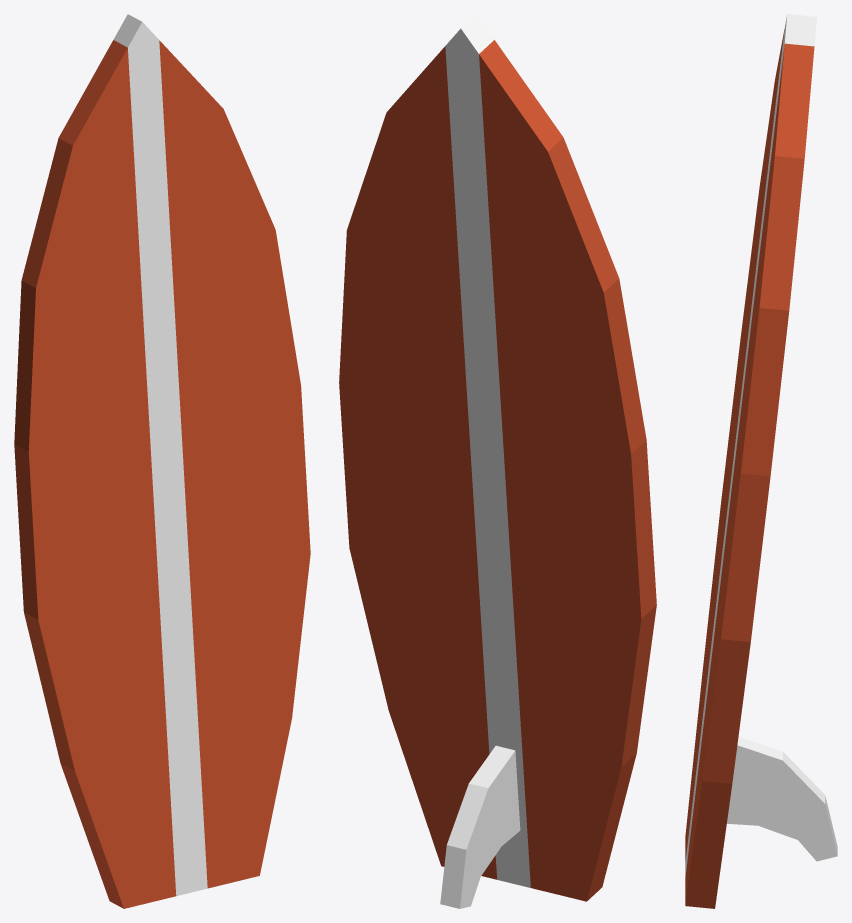
Rendered from Surfboard2_tex.fbx.
3 renders of one model, left to right at view 1: azimuth 30°, elevation 25°; view 2: azimuth 150°, elevation 25°; view 3: azimuth 270°, elevation 25°, orthographic. The views are drawn at different scales.
Parts seen in each view (by area): view 1: Surfboard2_tex; view 2: Surfboard2_tex; view 3: Surfboard2_tex.
Boxes of the visible parts, x1,y1,x2,y2 form: Surfboard2_tex: (14, 14, 310, 908); Surfboard2_tex: (339, 14, 656, 908); Surfboard2_tex: (685, 14, 837, 908).
Size of the model in its own units: 0.68 by 2 by 0.3207.
